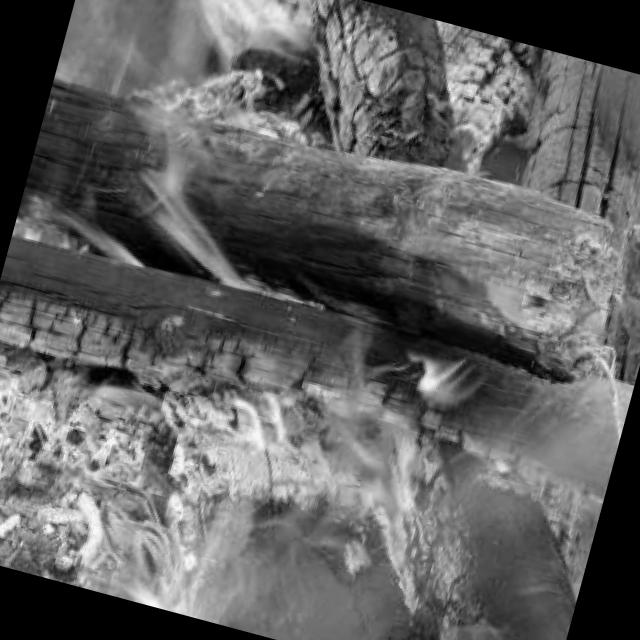fire: (1, 0, 319, 335), (217, 293, 497, 491), (74, 438, 348, 640)
